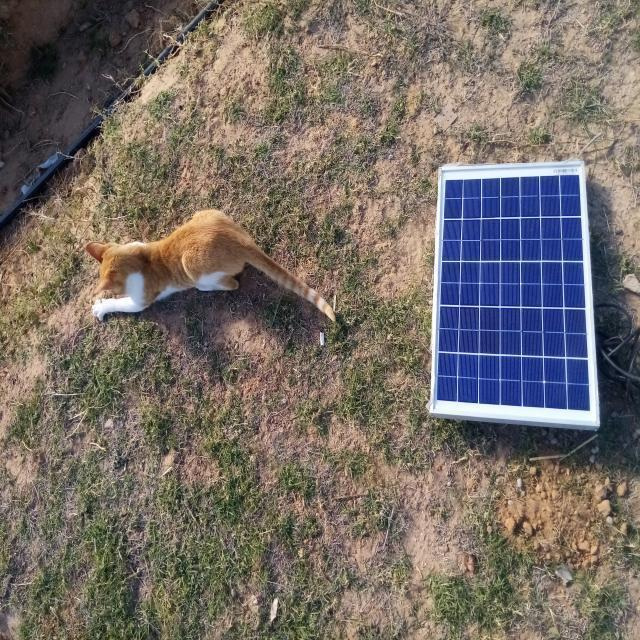Normal Solar Panel: (430, 160, 601, 427)
